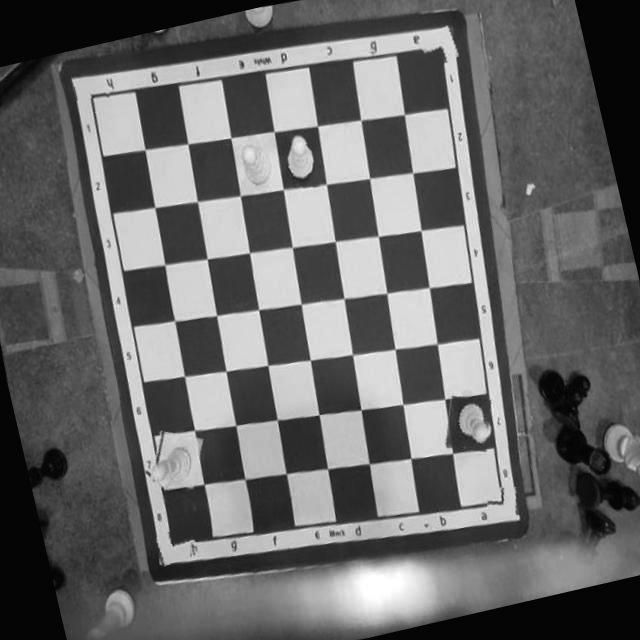chess-table-corners: (148, 522, 198, 566), (416, 23, 464, 68), (482, 481, 523, 518), (70, 79, 111, 116)
